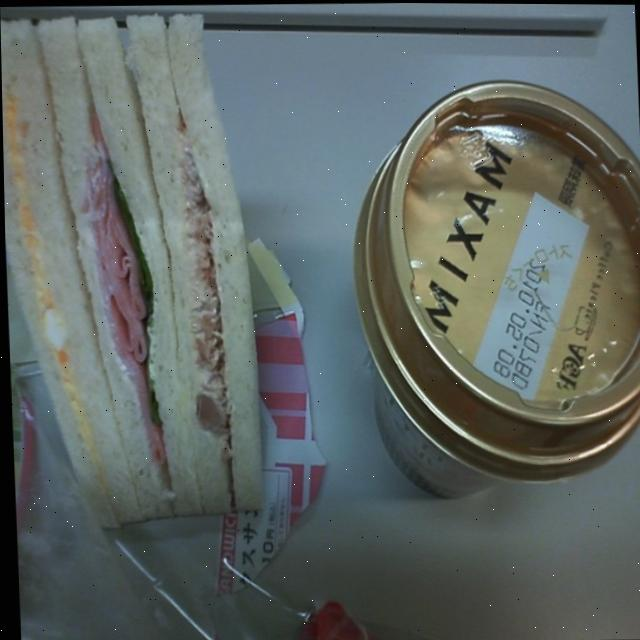三明治: (0, 0, 297, 526)
